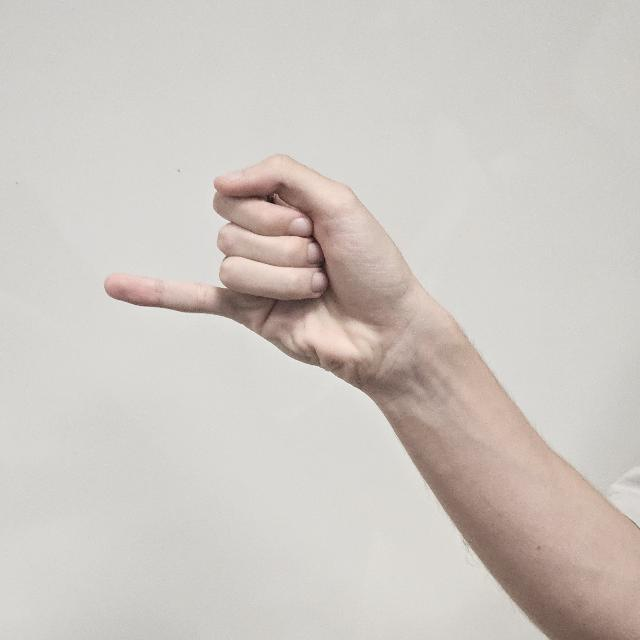Esquerda: (96, 144, 436, 412)
